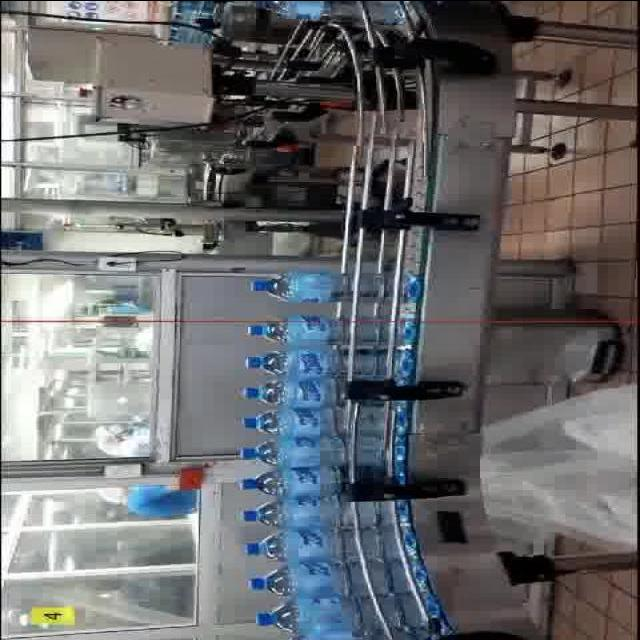bottle: (254, 597, 439, 636), (246, 561, 430, 600), (248, 268, 422, 305), (241, 528, 412, 565), (239, 496, 410, 531), (236, 435, 406, 469), (239, 406, 411, 439), (245, 314, 404, 348), (243, 347, 389, 380), (236, 464, 348, 500), (239, 376, 346, 409)
